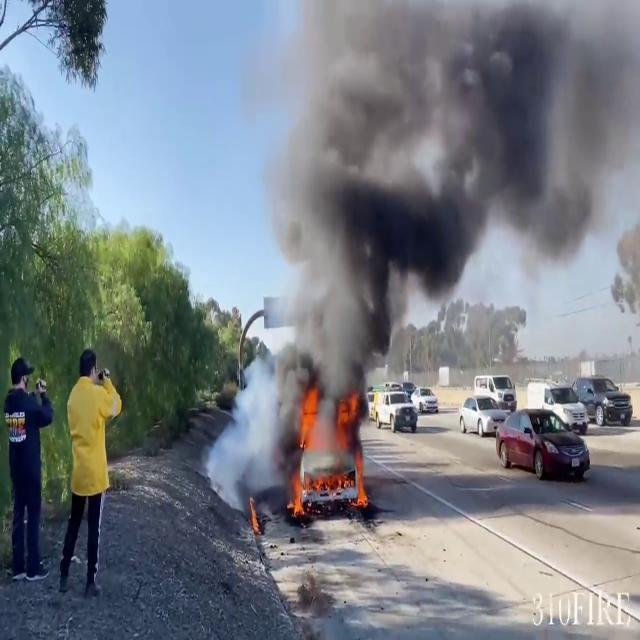Fire: (294, 390, 330, 512)
Smoke: (248, 0, 640, 398), (206, 342, 292, 518)
